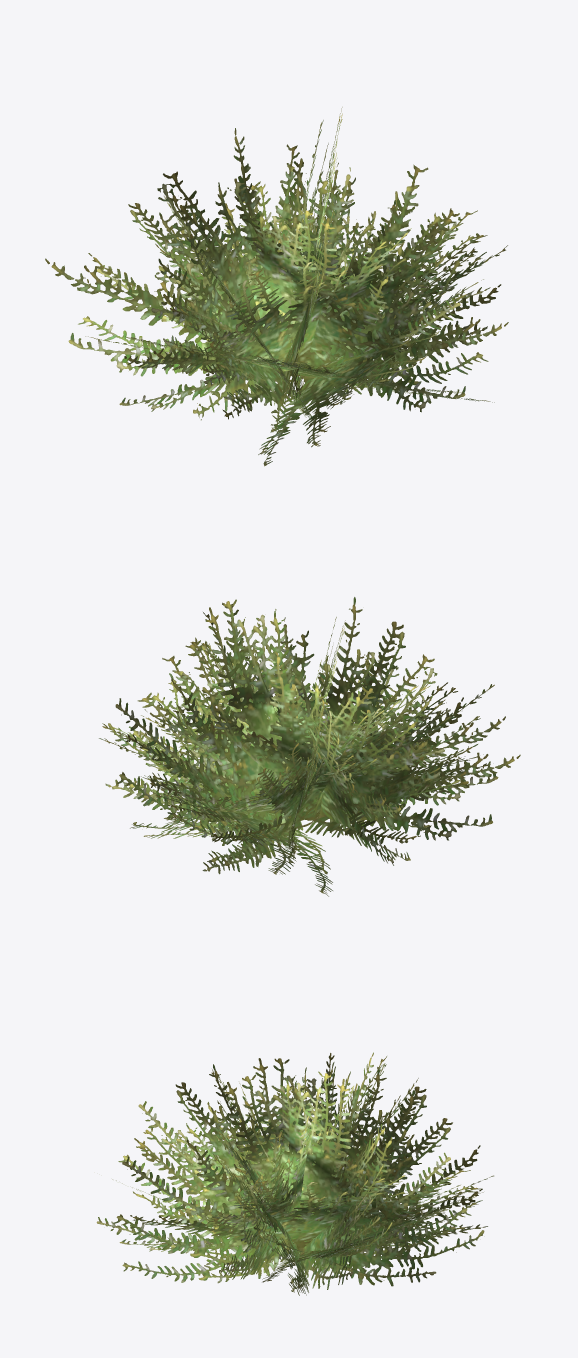
The model's file is shrb_arid_green_a4_l0.fbx.
The picture shows the model from 3 angles, top to bottom: view 1: azimuth 30°, elevation 25°; view 2: azimuth 150°, elevation 25°; view 3: azimuth 270°, elevation 25°; orthographic projection. The views are drawn at different scales.
Parts seen in each view (by area): view 1: mesh_node; view 2: mesh_node; view 3: mesh_node.
Part boxes in pixels (<box>): mesh_node: <box>45,107,508,466</box>; mesh_node: <box>99,597,520,896</box>; mesh_node: <box>96,1052,493,1295</box>.
Bounding box in the file's own units: 3.01 × 1.58 × 3.18.
